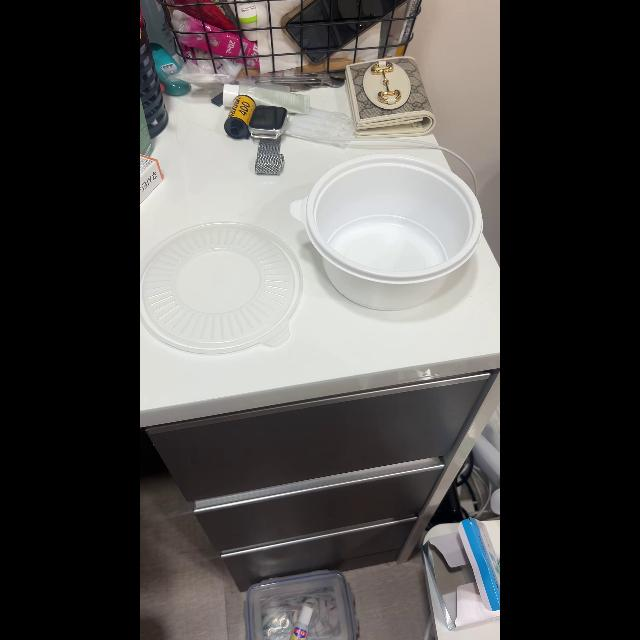clean: (292, 156, 480, 308), (140, 222, 300, 351)
